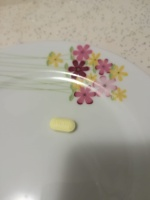Aferin: (48, 117, 78, 134)
